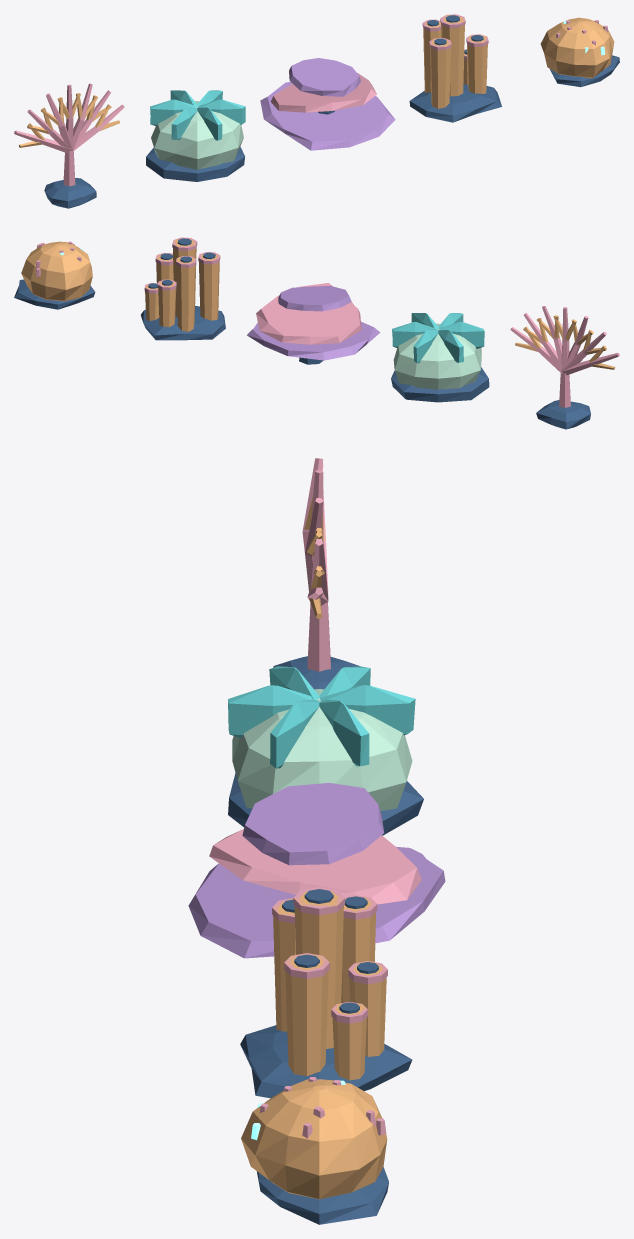
3 views of the same model, one above another, from view 1: azimuth 30°, elevation 25°; view 2: azimuth 150°, elevation 25°; view 3: azimuth 270°, elevation 25° (orthographic). The views are drawn at different scales.
Parts seen in each view (by area): view 1: DL006_CoralFamily_coral_orange, DL006_CoralFamily_coral_violet, DL006_CoralFamily_shadow_blue, DL006_CoralFamily_coral_pink, DL006_CoralFamily_coral_mint, DL006_CoralFamily_coral_turq; view 2: DL006_CoralFamily_coral_orange, DL006_CoralFamily_coral_pink, DL006_CoralFamily_shadow_blue, DL006_CoralFamily_coral_violet, DL006_CoralFamily_coral_mint, DL006_CoralFamily_coral_turq; view 3: DL006_CoralFamily_coral_orange, DL006_CoralFamily_coral_violet, DL006_CoralFamily_coral_pink, DL006_CoralFamily_shadow_blue, DL006_CoralFamily_coral_mint, DL006_CoralFamily_coral_turq.
Part boxes in pixels (x1,y1,x2,y2): DL006_CoralFamily_coral_orange: (19, 15, 614, 147); DL006_CoralFamily_coral_violet: (260, 58, 395, 150); DL006_CoralFamily_shadow_blue: (44, 15, 619, 208); DL006_CoralFamily_coral_pink: (14, 14, 608, 186); DL006_CoralFamily_coral_mint: (151, 101, 243, 169); DL006_CoralFamily_coral_turq: (150, 90, 245, 140); DL006_CoralFamily_coral_orange: (21, 238, 615, 369); DL006_CoralFamily_coral_pink: (35, 237, 619, 407); DL006_CoralFamily_shadow_blue: (14, 238, 590, 429); DL006_CoralFamily_coral_violet: (247, 285, 380, 360); DL006_CoralFamily_coral_mint: (393, 323, 481, 389); DL006_CoralFamily_coral_turq: (392, 313, 484, 363); DL006_CoralFamily_coral_orange: (241, 495, 387, 1199); DL006_CoralFamily_coral_violet: (188, 783, 445, 958); DL006_CoralFamily_coral_pink: (209, 458, 421, 1138); DL006_CoralFamily_shadow_blue: (228, 656, 423, 1224); DL006_CoralFamily_coral_mint: (232, 689, 412, 810); DL006_CoralFamily_coral_turq: (228, 666, 415, 768).
Size of the model in its own units: 11.36 by 2.11 by 2.11.
